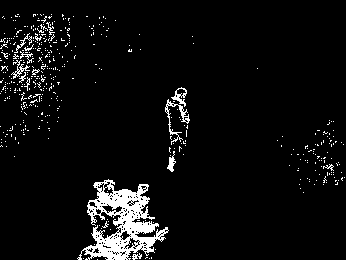person: (153, 76, 190, 168)
